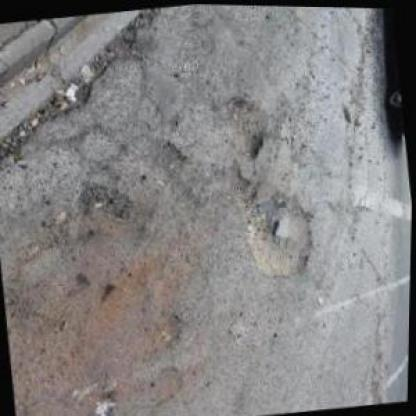pothole: (0, 8, 151, 176), (237, 183, 322, 284), (210, 92, 274, 164), (74, 178, 138, 246)
